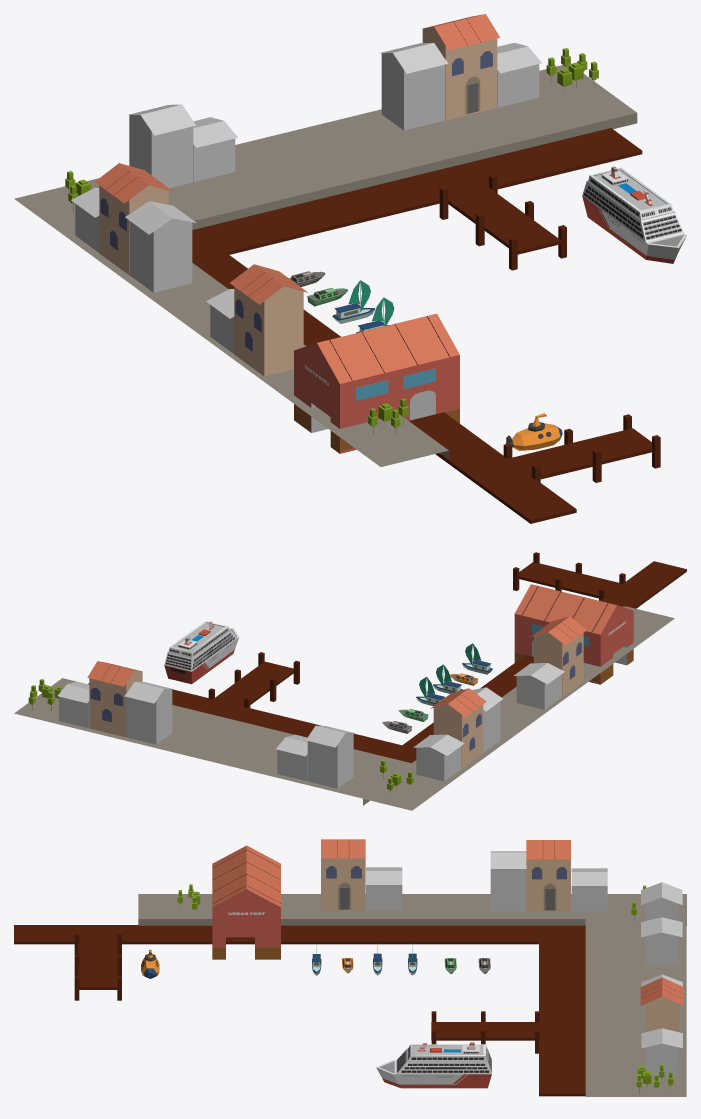
The model's file is port.obj.
The picture shows the model from 3 angles, top to bottom: view 1: azimuth 30°, elevation 25°; view 2: azimuth 150°, elevation 25°; view 3: azimuth 270°, elevation 25°; orthographic projection. The views are drawn at different scales.
Parts seen in each view (by area): view 1: port_bridge_Plane.197, port_ground_Plane.230, Cube, port_ground.001_Plane.249, Cube.044_Cube.061, port_boat4_Cube.080, Cube.001_Cube.058, Cube.042_Cube.051, Cube.003_Cube.059, Cube.046_Cube.063, Cube.041_Cube.050, Cube.006_Cube.060 (+5 smaller); view 2: port_bridge_Plane.197, port_ground_Plane.230, Cube, port_ground.001_Plane.249, port_boat4_Cube.080, Cube.001_Cube.058, Cube.041_Cube.050, Cube.044_Cube.061, Cube.046_Cube.063, Cube.003_Cube.059, Cube.043_Cube.052, Cube.045_Cube.062 (+6 smaller); view 3: port_bridge_Plane.197, port_ground_Plane.230, port_ground.001_Plane.249, Cube, port_boat4_Cube.080, Cube.041_Cube.050, Cube.044_Cube.061, Cube.042_Cube.051, Cube.001_Cube.058, Cube.047_Cube.064, Cube.043_Cube.052, Cube.045_Cube.062 (+2 smaller).
Part boxes in pixels (<box>): port_bridge_Plane.197: <box>192,128,660,523</box>; port_ground_Plane.230: <box>87,64,637,229</box>; Cube: <box>294,313,459,453</box>; port_ground.001_Plane.249: <box>14,184,448,466</box>; Cube.044_Cube.061: <box>230,264,308,376</box>; port_boat4_Cube.080: <box>582,166,686,263</box>; Cube.001_Cube.058: <box>421,14,500,120</box>; Cube.042_Cube.051: <box>125,201,196,292</box>; Cube.003_Cube.059: <box>379,43,448,130</box>; Cube.046_Cube.063: <box>128,104,195,187</box>; Cube.041_Cube.050: <box>95,163,173,275</box>; Cube.006_Cube.060: <box>497,42,541,107</box>; port_bridge_Plane.197: <box>88,552,686,763</box>; port_ground_Plane.230: <box>14,678,412,798</box>; Cube: <box>514,584,633,684</box>; port_ground.001_Plane.249: <box>363,606,674,810</box>; port_boat4_Cube.080: <box>164,621,239,684</box>; Cube.001_Cube.058: <box>87,661,142,737</box>; Cube.041_Cube.050: <box>430,688,486,768</box>; Cube.044_Cube.061: <box>531,616,586,696</box>; Cube.046_Cube.063: <box>306,725,354,788</box>; Cube.003_Cube.059: <box>124,681,173,744</box>; Cube.043_Cube.052: <box>413,734,464,781</box>; Cube.045_Cube.062: <box>513,663,564,709</box>; port_bridge_Plane.197: <box>14,925,585,1096</box>; port_ground_Plane.230: <box>585,918,686,1096</box>; port_ground.001_Plane.249: <box>138,894,686,925</box>; Cube: <box>212,845,280,959</box>; port_boat4_Cube.080: <box>376,1042,491,1088</box>; Cube.041_Cube.050: <box>526,840,570,911</box>; Cube.044_Cube.061: <box>321,839,365,910</box>; Cube.042_Cube.051: <box>490,851,526,911</box>; Cube.001_Cube.058: <box>640,977,683,1059</box>; Cube.047_Cube.064: <box>641,917,682,964</box>; Cube.043_Cube.052: <box>571,868,607,911</box>; Cube.045_Cube.062: <box>366,867,402,910</box>.
Bounding box in the file's own units: 13.95 × 2.74 × 19.57.
12 materials, 10 textured.
